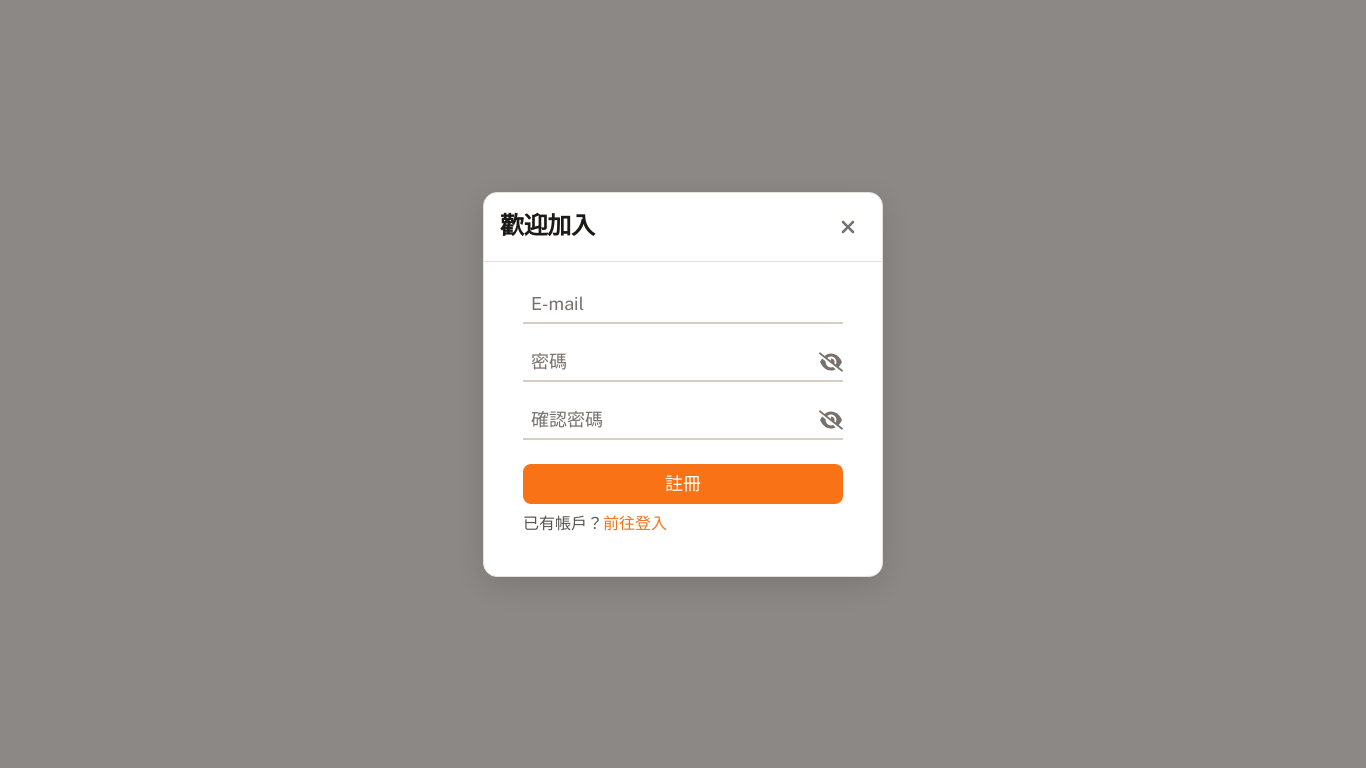
Test case: 註冊功能(SignUp) › 測試表單欄位必填
This screenshot has width=1366, height=768.
Click the button "註冊": (683, 484) [523, 464, 843, 504]
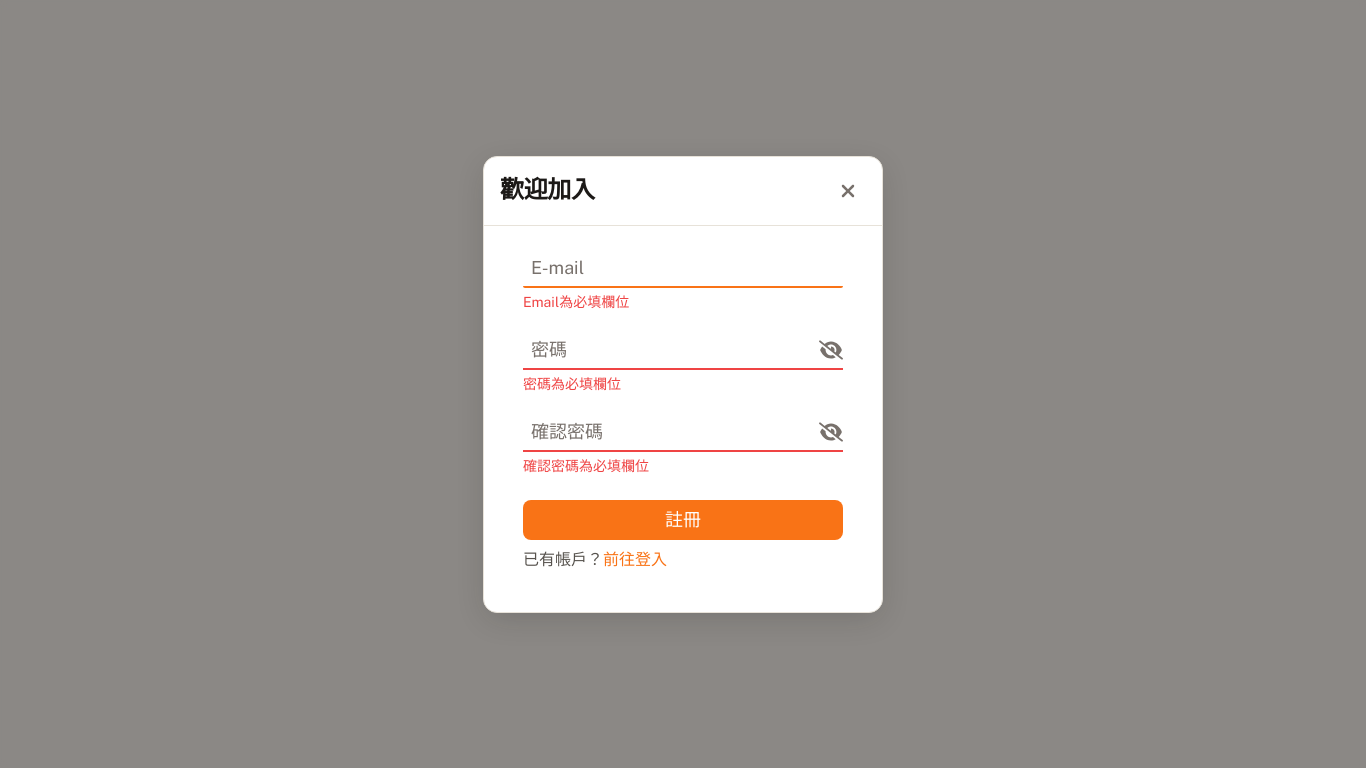
Now the text "Email為必填欄位" is shown, box [523, 294, 629, 310]
